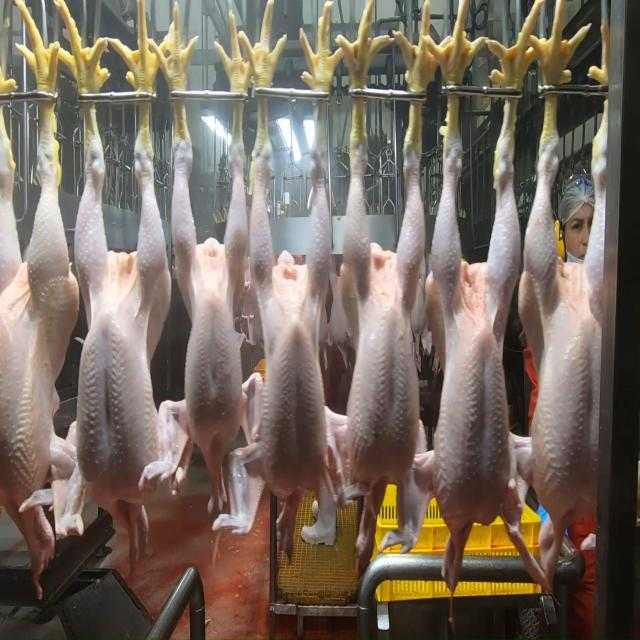chicken: (424, 140, 525, 535), (246, 136, 340, 511), (340, 111, 430, 487), (72, 127, 160, 503), (530, 135, 605, 526), (167, 127, 248, 467), (0, 138, 62, 507)
